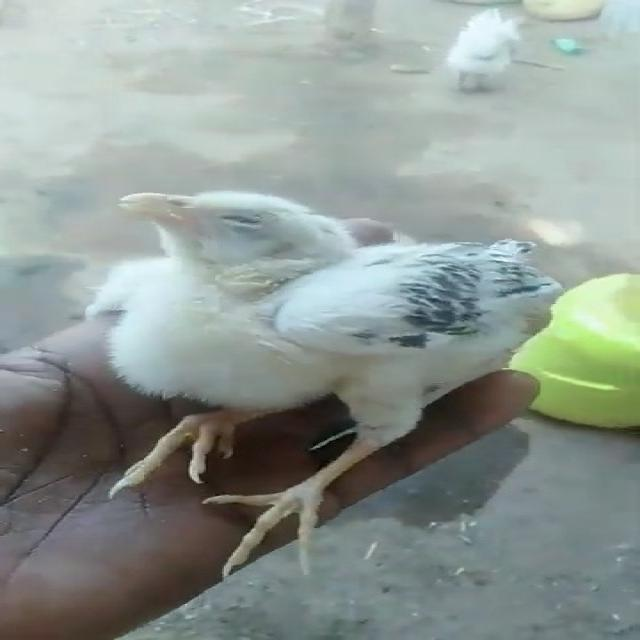newcastle: (50, 144, 548, 560)
